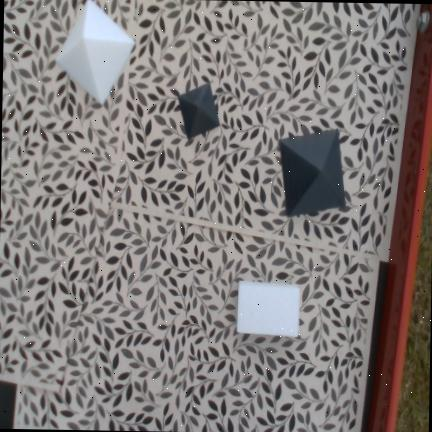Paralelepipedo: (236, 280, 300, 336)
Piramide: (54, 0, 136, 105), (279, 128, 345, 216), (178, 82, 220, 138)
